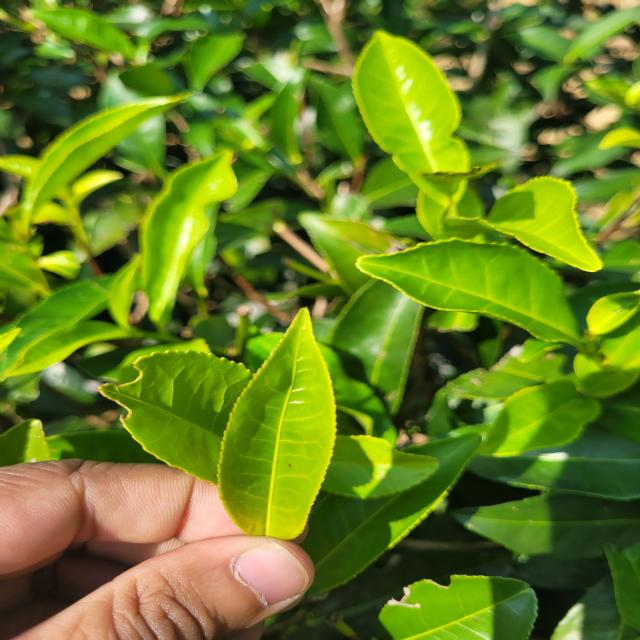Catagory A(1-2 days): (213, 300, 367, 552)
